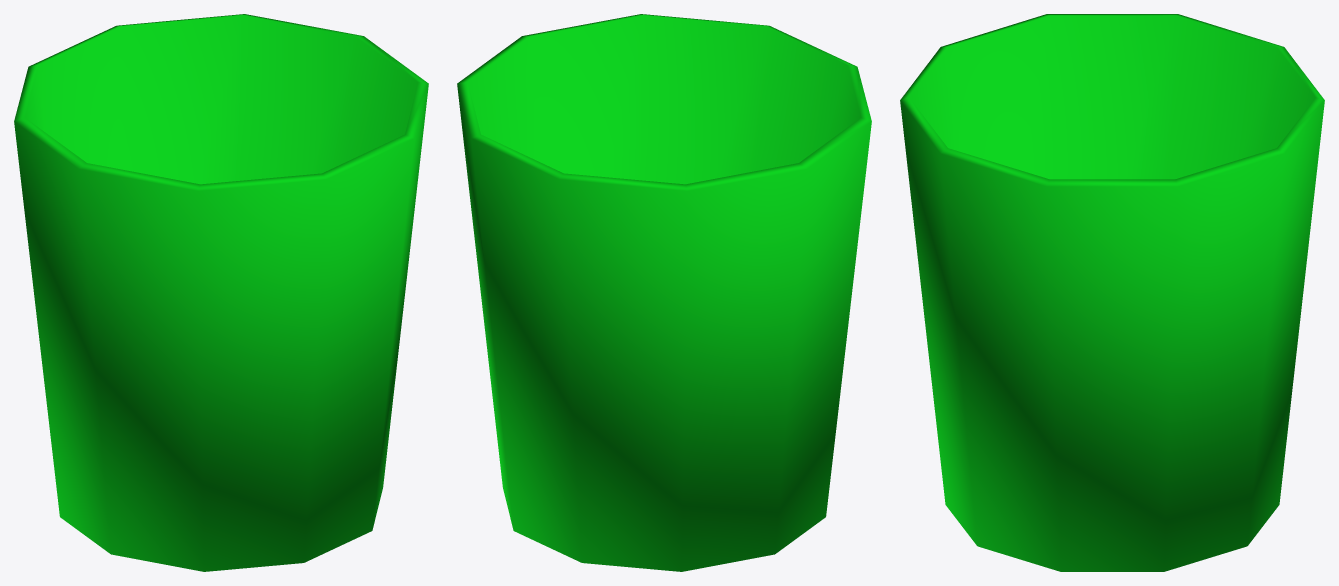
Rendered from trashcan.fbx.
3 views of the same model, side by side, from view 1: azimuth 30°, elevation 25°; view 2: azimuth 150°, elevation 25°; view 3: azimuth 270°, elevation 25° (orthographic).
Visible parts, largest first — view 1: Items.011; view 2: Items.011; view 3: Items.011.
Boxes of the visible parts, <box> form: Items.011: <box>14,14,428,571</box>; Items.011: <box>457,14,871,571</box>; Items.011: <box>900,14,1324,571</box>.
Size of the model in its own units: 53.93 by 61.05 by 56.07.
